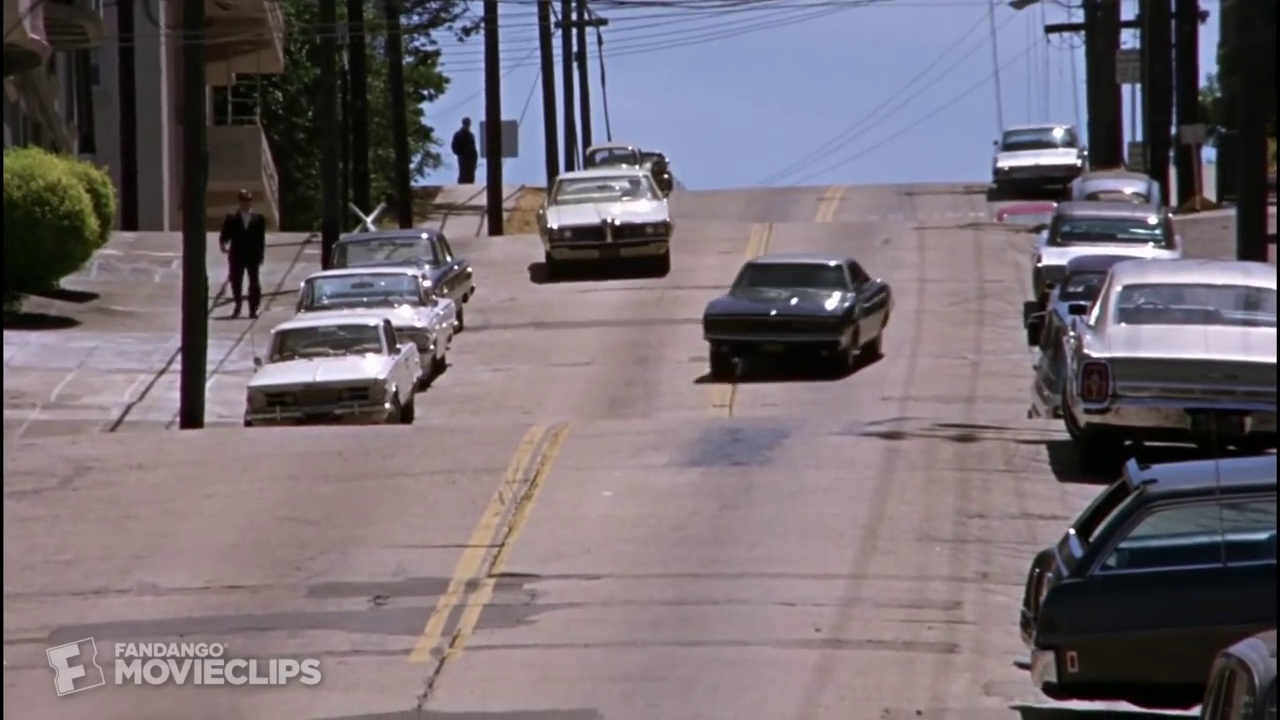car: (1000, 444, 1280, 710), (1045, 251, 1280, 486), (691, 241, 905, 389), (268, 264, 471, 398), (238, 307, 432, 441), (1018, 195, 1196, 331), (315, 225, 483, 355), (532, 158, 678, 280), (987, 116, 1087, 205)
person: (214, 183, 274, 322), (447, 108, 481, 189)
